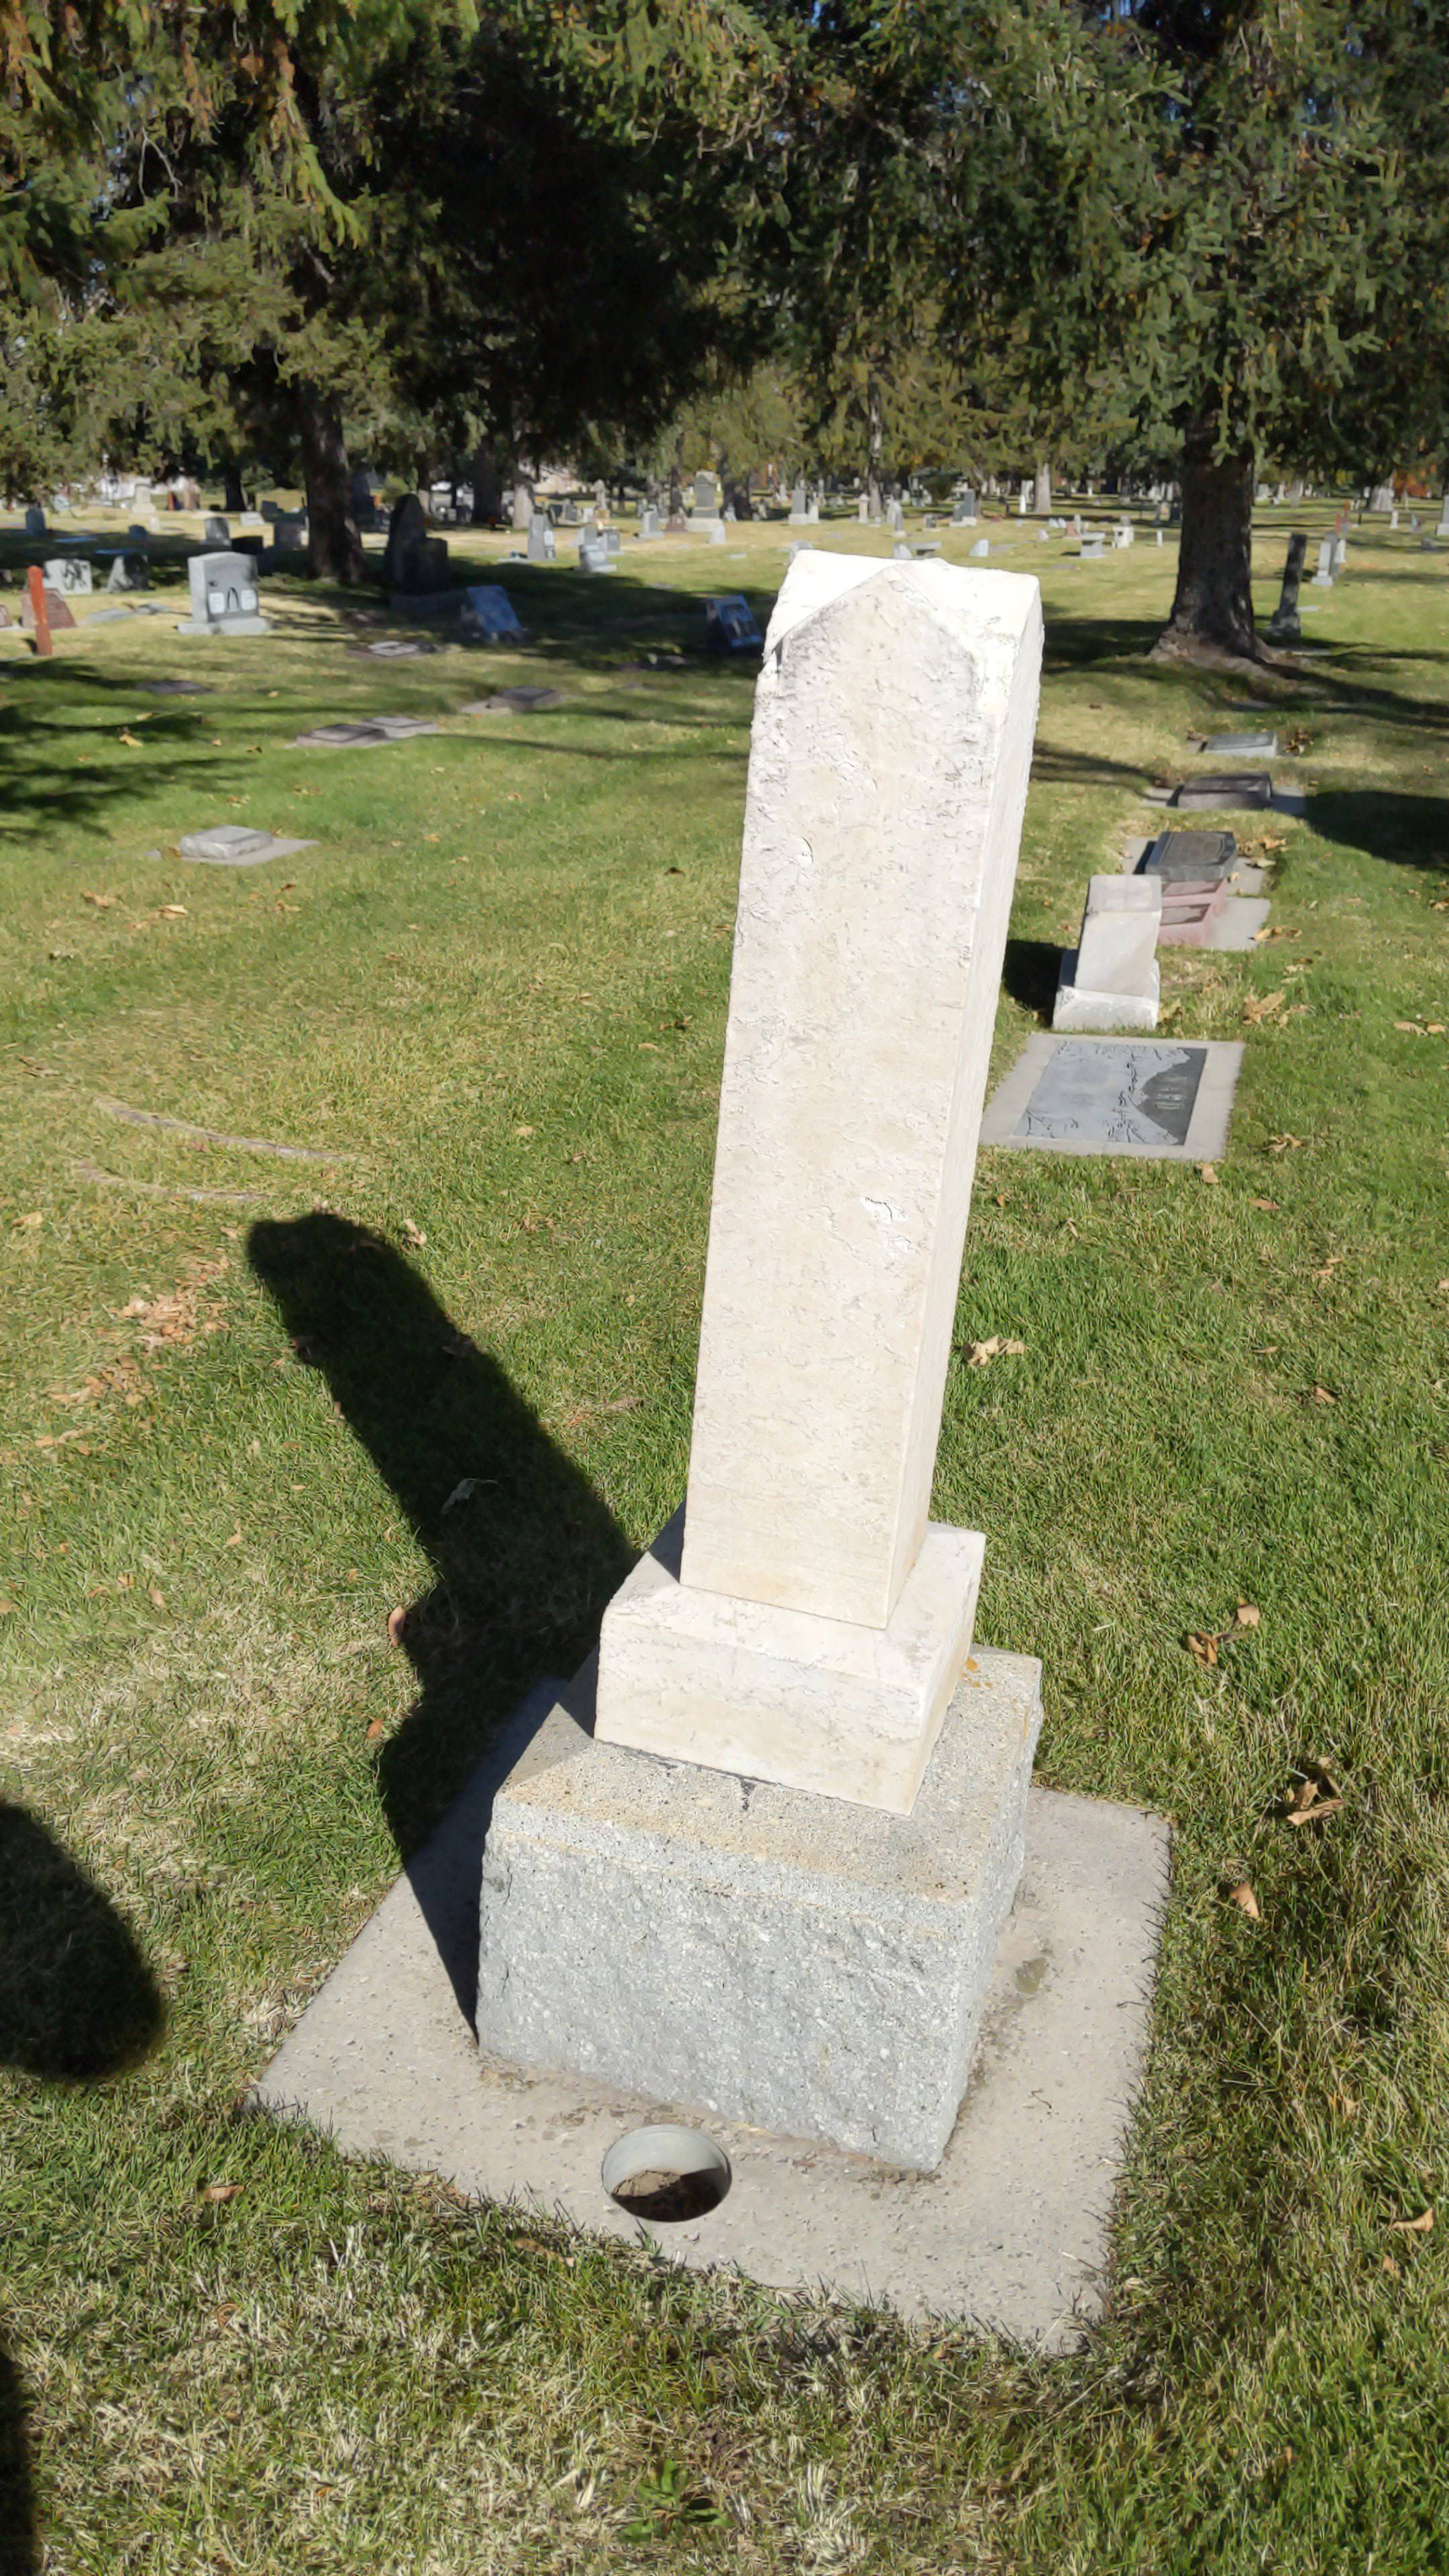obelisk: (612, 543, 1040, 1812)
